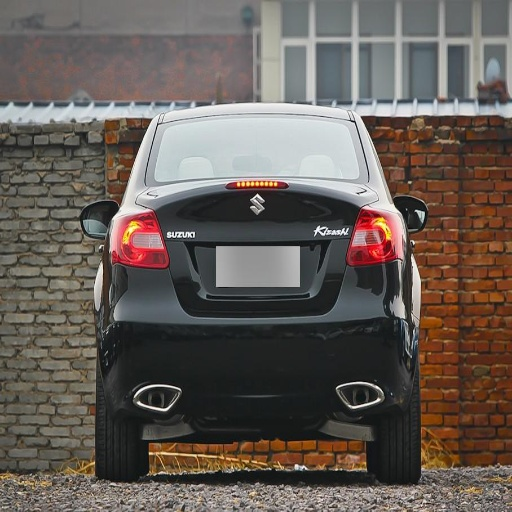back_bumper: (99, 261, 407, 436)
